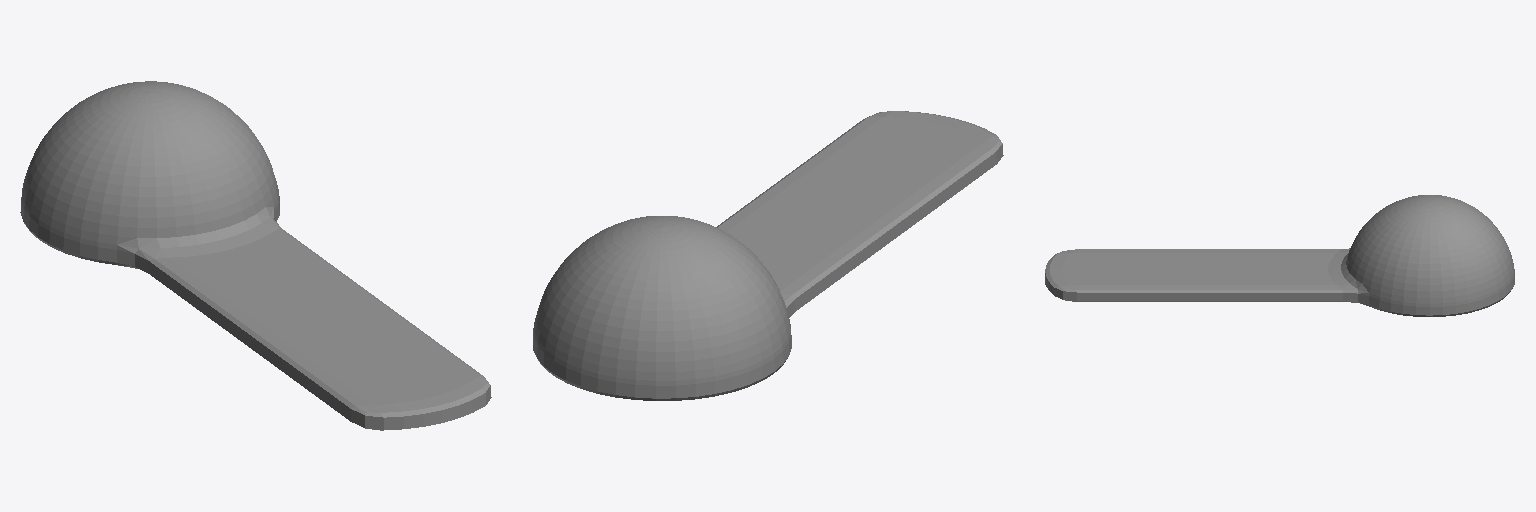
robot.urdf — grey_spoon.urdf:
<?xml version="0.0" ?>
<robot name="grey_spoon.urdf">
  <link name="baseLink">
    <contact>
      <friction_anchor/>
      <lateral_friction value="1.0"/>
    </contact>
    <inertial>
      <origin rpy="0 0 0" xyz="0 0 0"/>
       <mass value="0.04819415"/>
       <inertia ixx="1" ixy="0" ixz="0" iyy="1" iyz="0" izz="1"/>
    </inertial>
    <visual>
      <origin rpy="0 0 0" xyz="0 0 0"/>
      <geometry>
        <mesh filename="grey_spoon.obj" scale="1 1 1"/>
        <!--mesh filename="grey_spoon_vhacd.obj" scale="1 1 1"/-->
      </geometry>
       <material name="grey">
        <color rgba="0.6 0.6 0.6 1"/>
      </material>
    </visual>
    <collision>
      <origin rpy="0 0 0" xyz="0 0 0"/>
      <geometry>
        <mesh filename="grey_spoon_vhacd.obj" scale="1 1 1"/>
      </geometry>
    </collision>
  </link>
</robot>

--- Render facts (derived) ---
Views: 3 orthographic renders of the robot side by side, from view 1: azimuth 30°, elevation 25°; view 2: azimuth 150°, elevation 25°; view 3: azimuth 270°, elevation 25°.
Model grey_spoon.urdf with 1 links and 0 joints (none), rooted at baseLink, posed every joint at zero.
Visible links, largest first — view 1: baseLink; view 2: baseLink; view 3: baseLink.
Link boxes in pixels (x1,y1,x2,y2): baseLink: (20,81,491,430); baseLink: (533,111,1003,400); baseLink: (1045,195,1514,316).
Bounding box of the posed robot: 0.0446 × 0.1224 × 0.0227 m (x, y, z).
1 mesh visuals loaded from 1 distinct referenced files (1 OBJ).